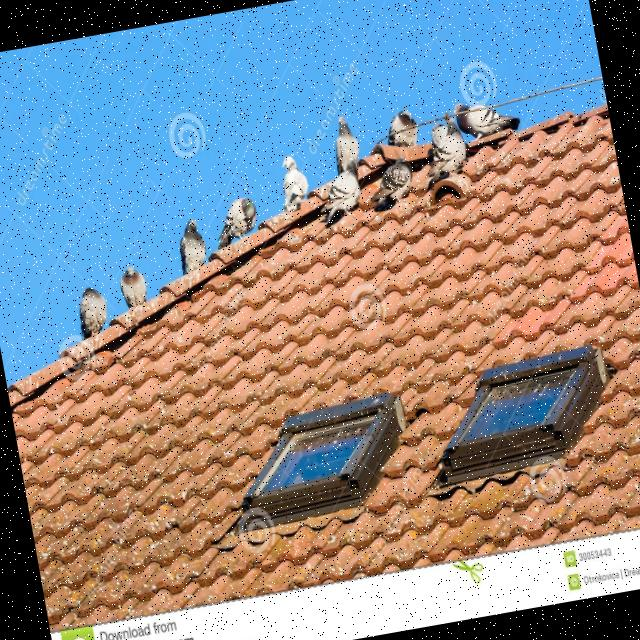bird: (309, 153, 368, 230), (415, 114, 472, 189), (449, 91, 524, 147), (362, 154, 419, 214), (369, 132, 437, 178), (208, 193, 262, 250), (272, 152, 314, 214), (326, 112, 364, 178), (172, 216, 211, 276), (72, 284, 112, 340), (382, 106, 422, 152), (116, 262, 151, 312), (352, 144, 392, 186)
